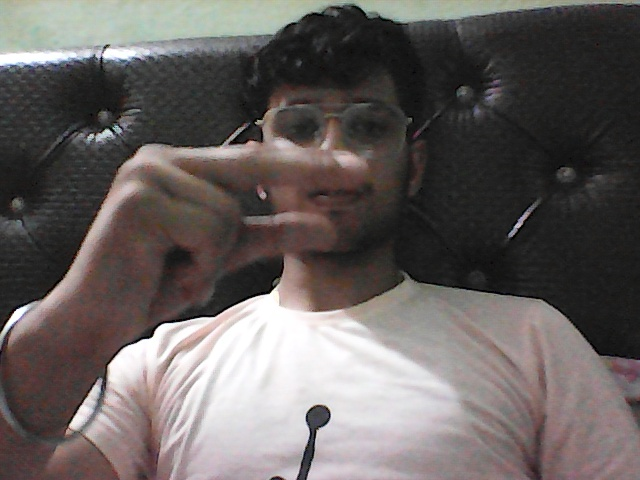no: (51, 125, 381, 327)
